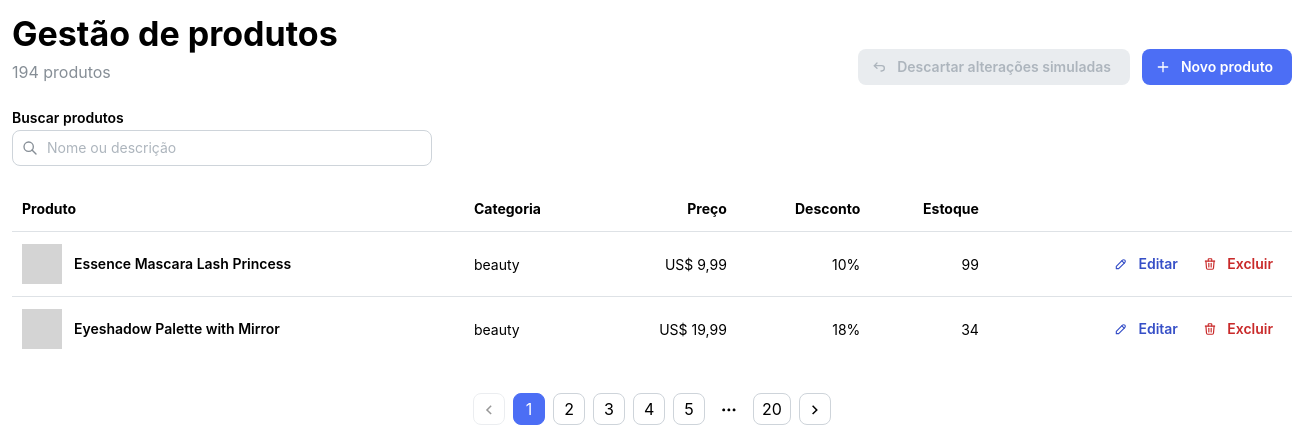
Test: AdminProductsPage › sem resultados, mostra o estado vazio
Expected: the table named "Produtos" is shown, [12,186,1291,362]
Type "nada" into the search field labelled "Buscar produtos" at (222, 148), box [12,130,432,166]
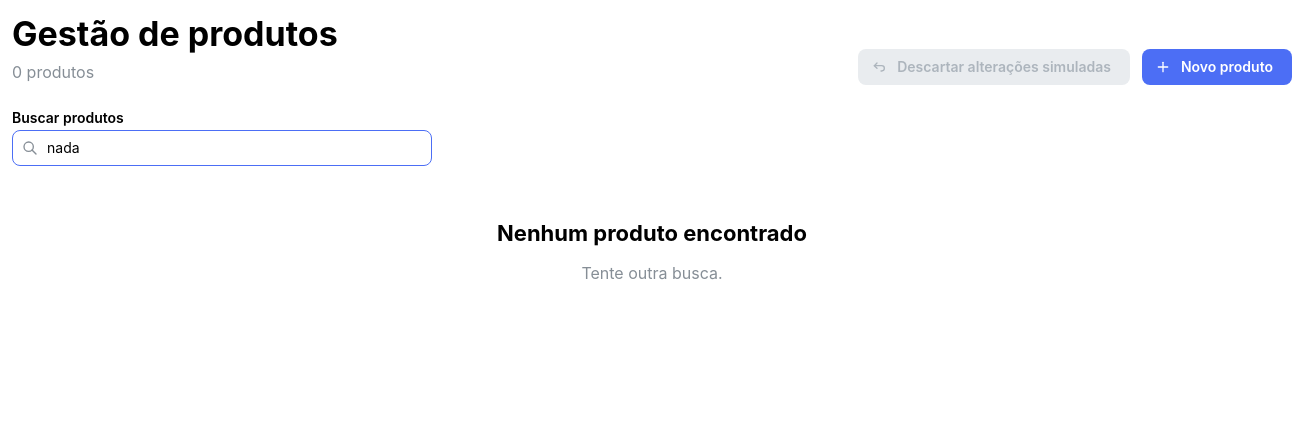
Expected: the heading "Nenhum produto encontrado" is shown, [497,218,807,249]
Expected: the text "Tente outra busca." is shown, [581,261,723,285]
